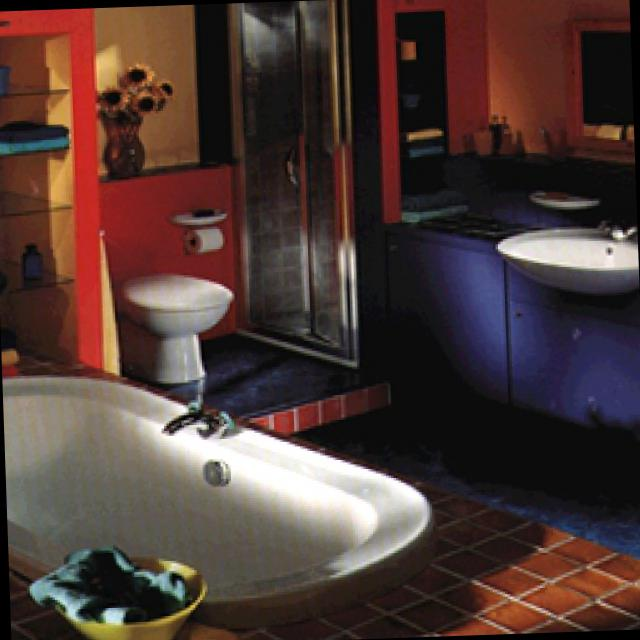bath occluded: (161, 402, 234, 439)
bathtub: (6, 345, 640, 640), (4, 371, 433, 604)
bottle crop: (26, 237, 43, 277), (493, 106, 509, 144)
bouquet: (97, 56, 182, 174)
bowl -X: (31, 540, 212, 640)
cabinet door: (402, 227, 640, 440)
cup and saucer: (0, 60, 16, 91)
mirror crop: (434, 0, 636, 222), (574, 18, 634, 144)
rug -partially obscured-: (294, 384, 640, 550)
shelf crop: (0, 8, 106, 365), (13, 543, 231, 640), (399, 5, 471, 220)
shower crop: (231, 0, 361, 359)
shower door: (299, 0, 346, 342)
sink basin: (500, 219, 639, 292), (500, 220, 639, 293)
soap bottle: (598, 122, 626, 132)
soap dispenser: (538, 184, 606, 207)
toilet bowl: (116, 268, 239, 381)
toilet paper: (189, 223, 225, 247)
toilet seat lid: (125, 265, 236, 380)
towel basket: (34, 545, 184, 620)
towels: (1, 113, 73, 149), (408, 188, 468, 222), (408, 126, 447, 154)
